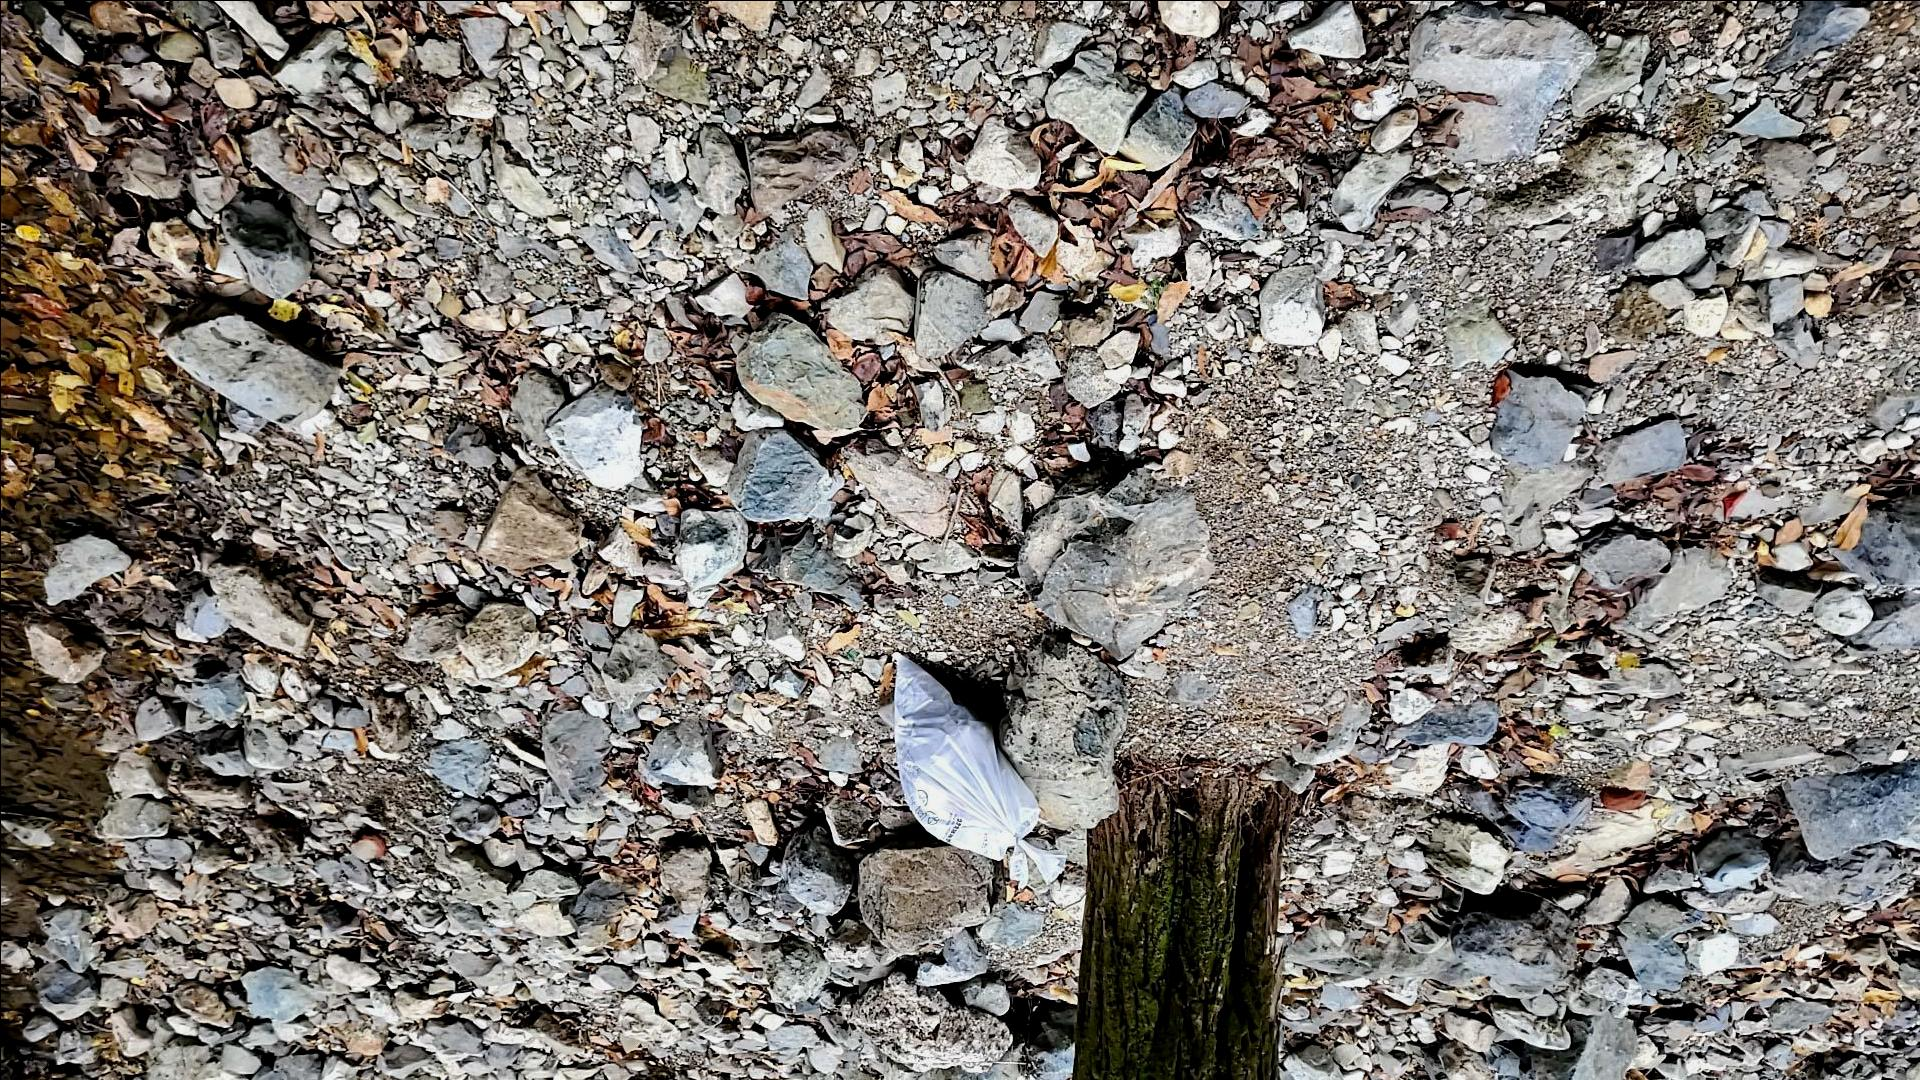white_bag: (860, 638, 1068, 897)
